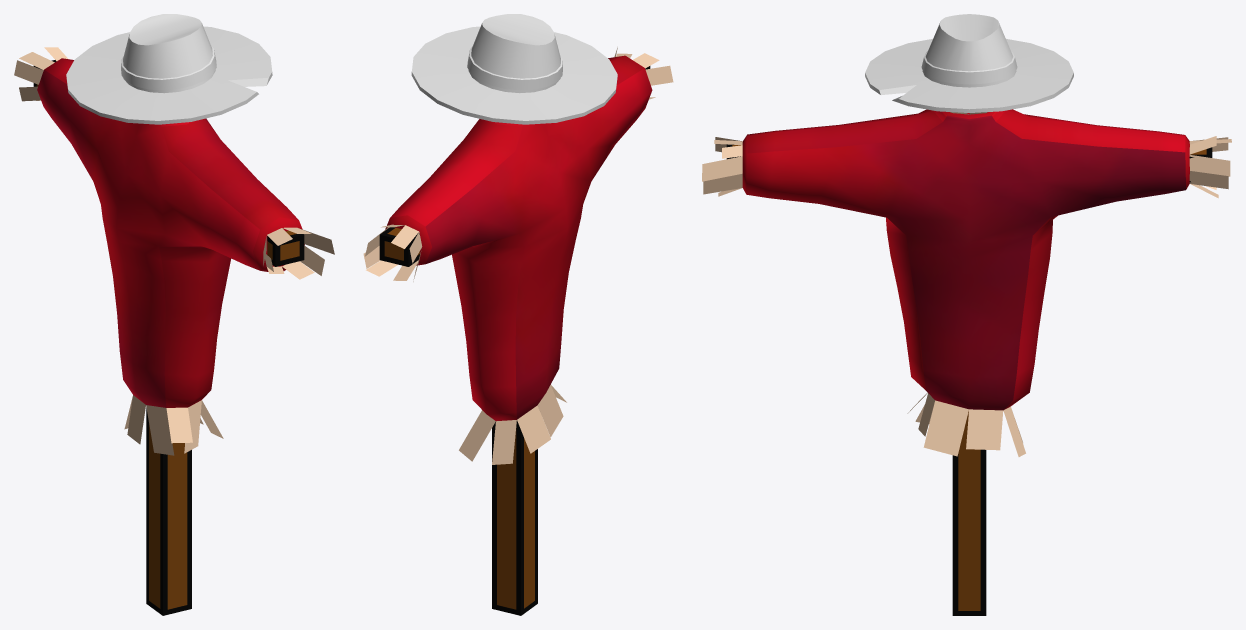
File: ScarecrowDummy.fbx
3 renders of one model, left to right at view 1: azimuth 30°, elevation 25°; view 2: azimuth 150°, elevation 25°; view 3: azimuth 270°, elevation 25°, orthographic.
Parts seen in each view (by area): view 1: Scarecrow Dummy, Hat.001; view 2: Scarecrow Dummy, Hat.001; view 3: Scarecrow Dummy, Hat.001.
Boxes of the visible parts, bbox=[...] form: Scarecrow Dummy: bbox=[14, 47, 334, 615]; Hat.001: bbox=[66, 14, 272, 124]; Scarecrow Dummy: bbox=[363, 47, 673, 615]; Hat.001: bbox=[411, 14, 617, 124]; Scarecrow Dummy: bbox=[702, 109, 1231, 615]; Hat.001: bbox=[865, 14, 1073, 112].
Bounding box in the file's own units: 2.96 × 1.16 × 3.59.
